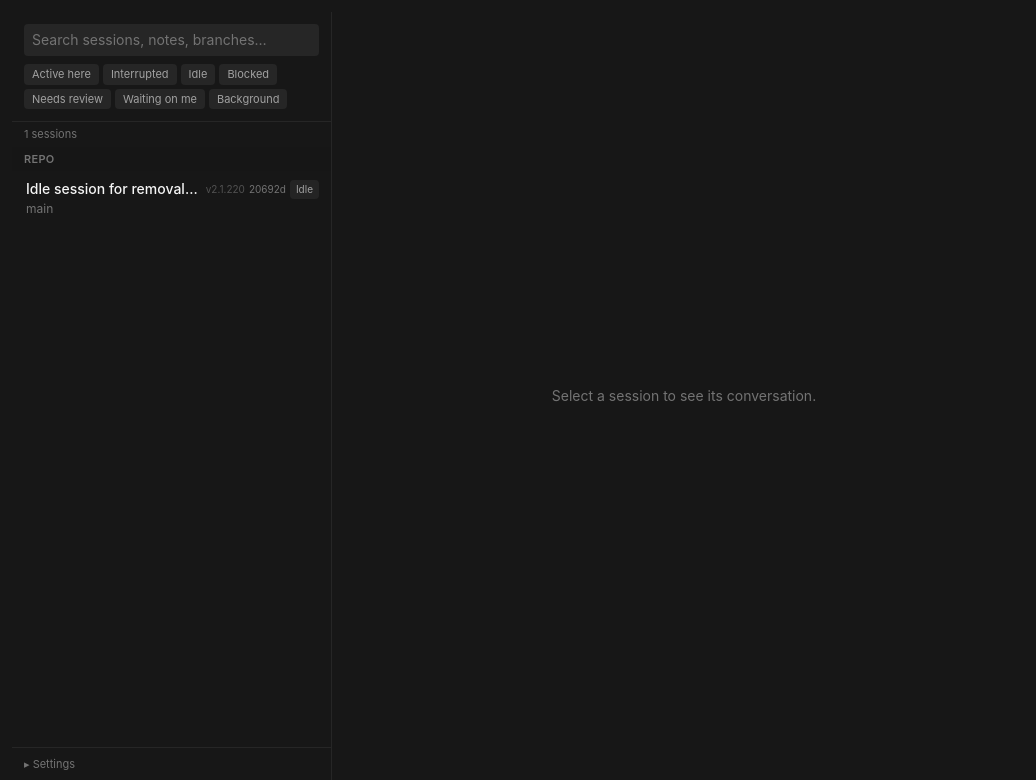
Test case: App › leaves worktree removal enabled in the Git tab for a non-live session
This screenshot has width=1036, height=780.
Click the text "Idle session for removal test" at [112, 189], box [26,179,198,199]
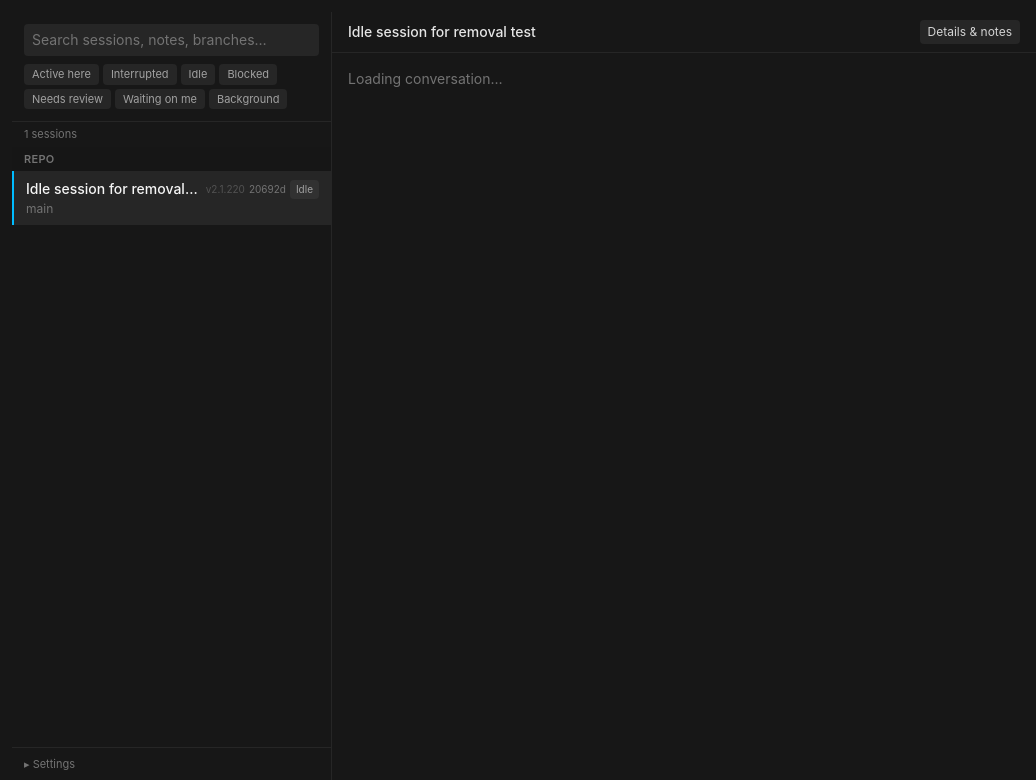
Click the button "Details & notes" at [970, 32], box [920,20,1020,44]
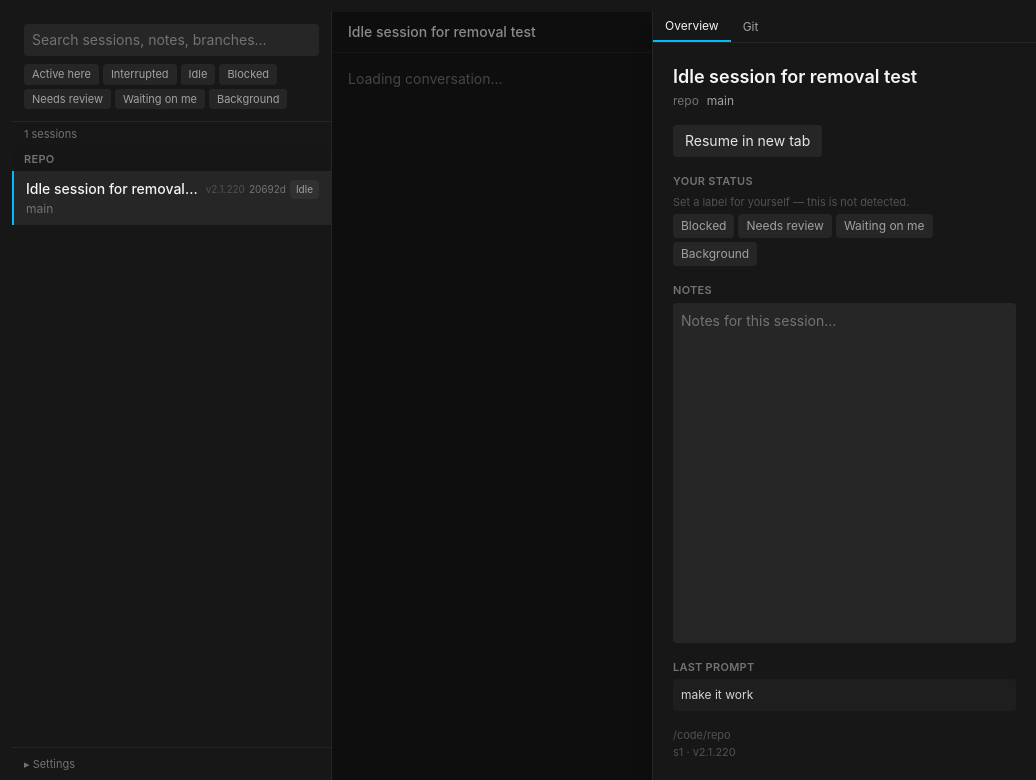
Click the button "Git" at [750, 27], box [731,12,770,42]
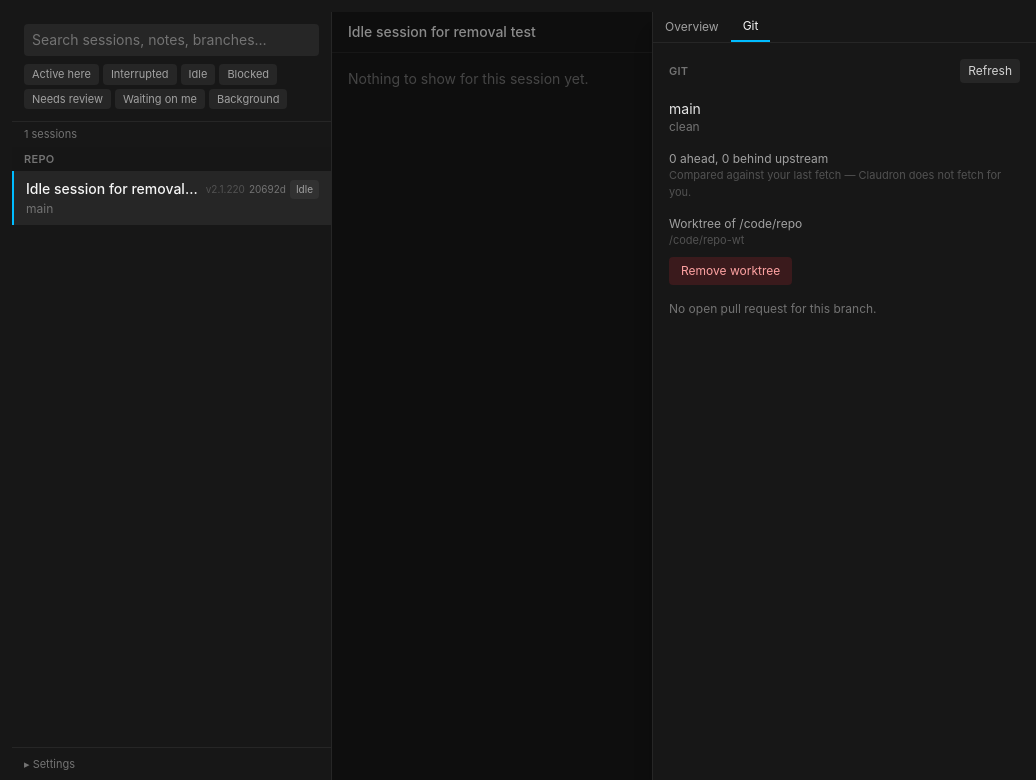
expect the button "Remove worktree" is enabled: met, box [669,256,792,284]
